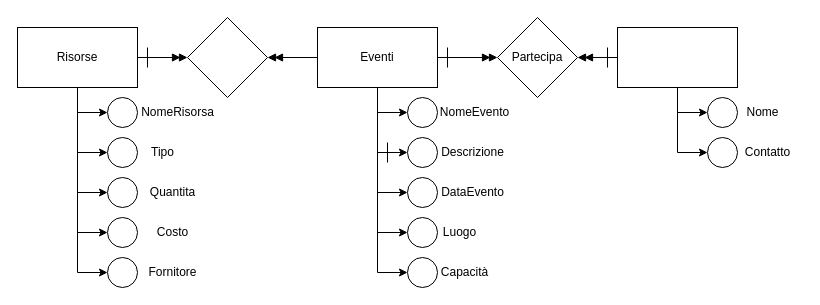
The diagram is 820 pixels wide and 305 high, and some of its shapes have lost their labels. Each missing label, with the centre of its shape:
Necessita: the point at 227,57
Partecipanti: the point at 677,57
